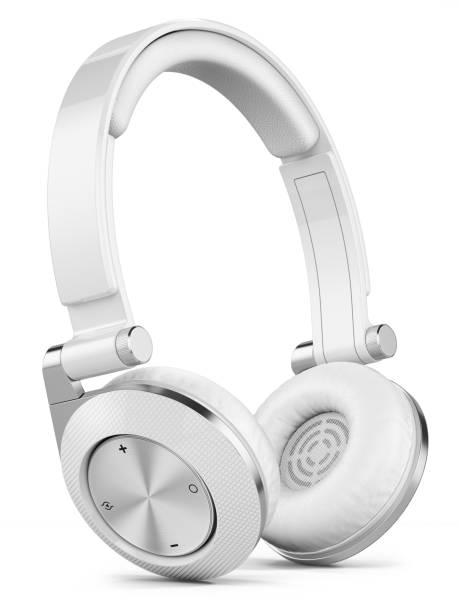headphone: (29, 18, 431, 585)
